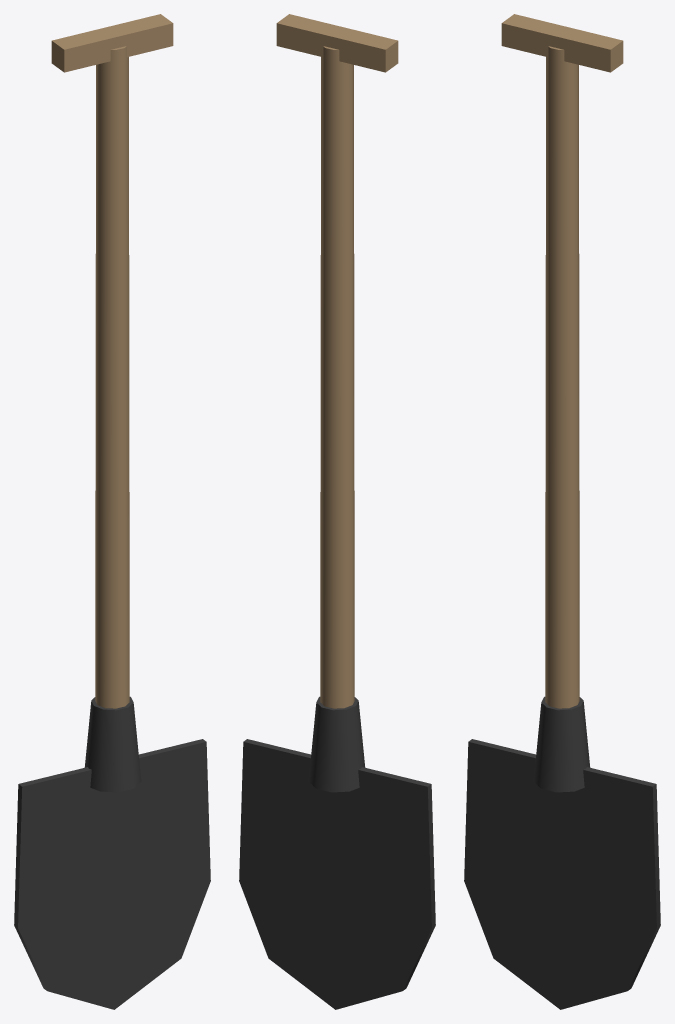
Rendered from SM_Shovel.glb.
3 renders of one model, left to right at view 1: azimuth 30°, elevation 25°; view 2: azimuth 150°, elevation 25°; view 3: azimuth 330°, elevation 25°, orthographic.
Visible parts, largest first — view 1: SM_Shovel; view 2: SM_Shovel; view 3: SM_Shovel.
Boxes of the visible parts, x1,y1,x2,y2 form: SM_Shovel: [14, 14, 210, 1009]; SM_Shovel: [239, 14, 435, 1009]; SM_Shovel: [464, 14, 660, 1009].
Bounding box in the file's own units: 23 × 111 × 5.71.
